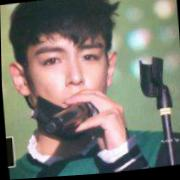WRONG: (27, 29, 113, 139)
